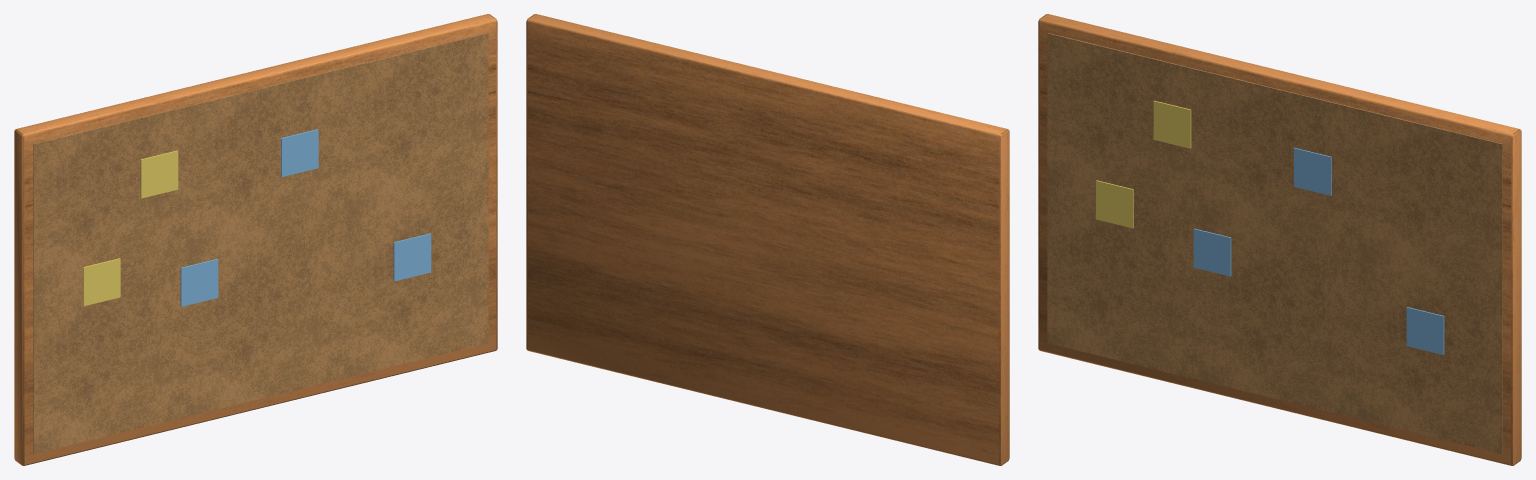
Rendered from tech.cork-board-900x600.glb.
3 renders of one model, left to right at view 1: azimuth 30°, elevation 25°; view 2: azimuth 150°, elevation 25°; view 3: azimuth 330°, elevation 25°, orthographic.
Visible parts, largest first — view 1: tech.cork-board-900x600.001; view 2: tech.cork-board-900x600.001; view 3: tech.cork-board-900x600.001.
Boxes of the visible parts, <box> form: tech.cork-board-900x600.001: <box>14,14,497,465</box>; tech.cork-board-900x600.001: <box>526,14,1009,465</box>; tech.cork-board-900x600.001: <box>1038,14,1521,465</box>.
Bounding box in the file's own units: 0.9 × 0.6 × 0.034.
Materials: 4 (2 with a texture image).
